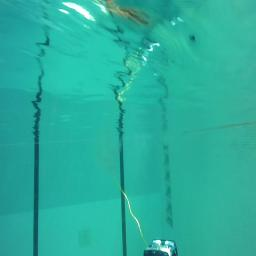Side: (142, 239, 178, 256)
